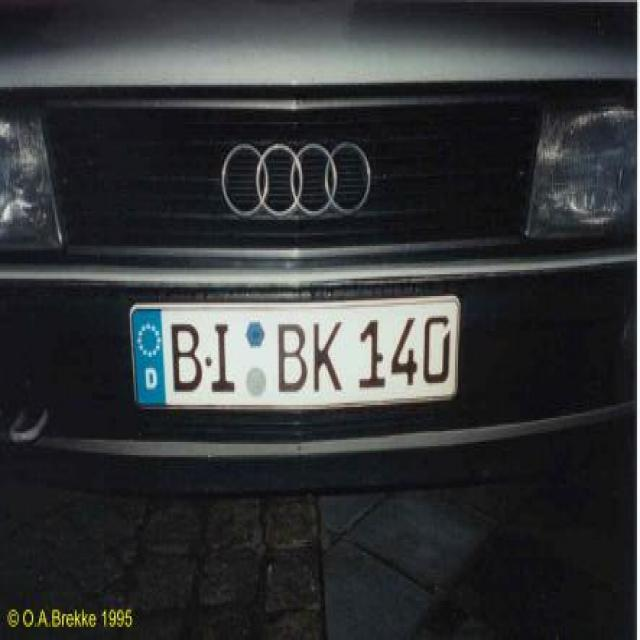license-plates: (130, 297, 459, 410)
